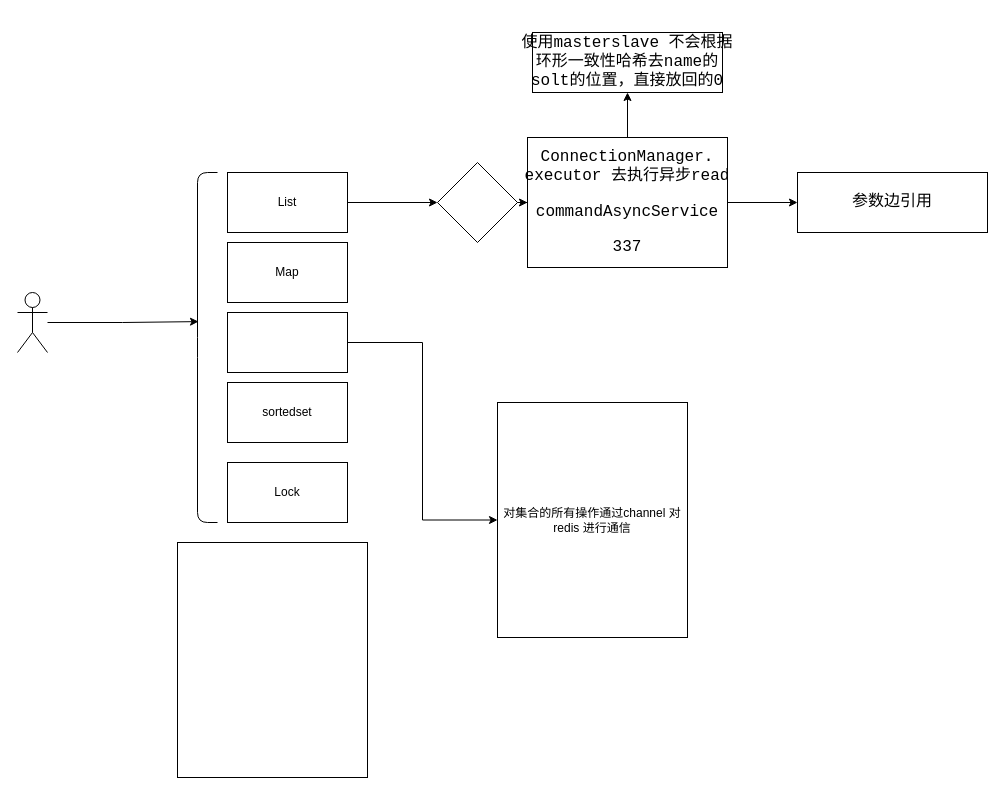
The diagram is 1005 pixels wide and 795 high, and some of its shapes have lost their labels. Here are the shapes that lost their labels. From the top down, the centre of each, then its label:
point 477,202: isExit
point 32,322: Actor
point 287,342: set
point 272,660: 提供给了 redis 对应的所有集合的操作，和锁的机制
